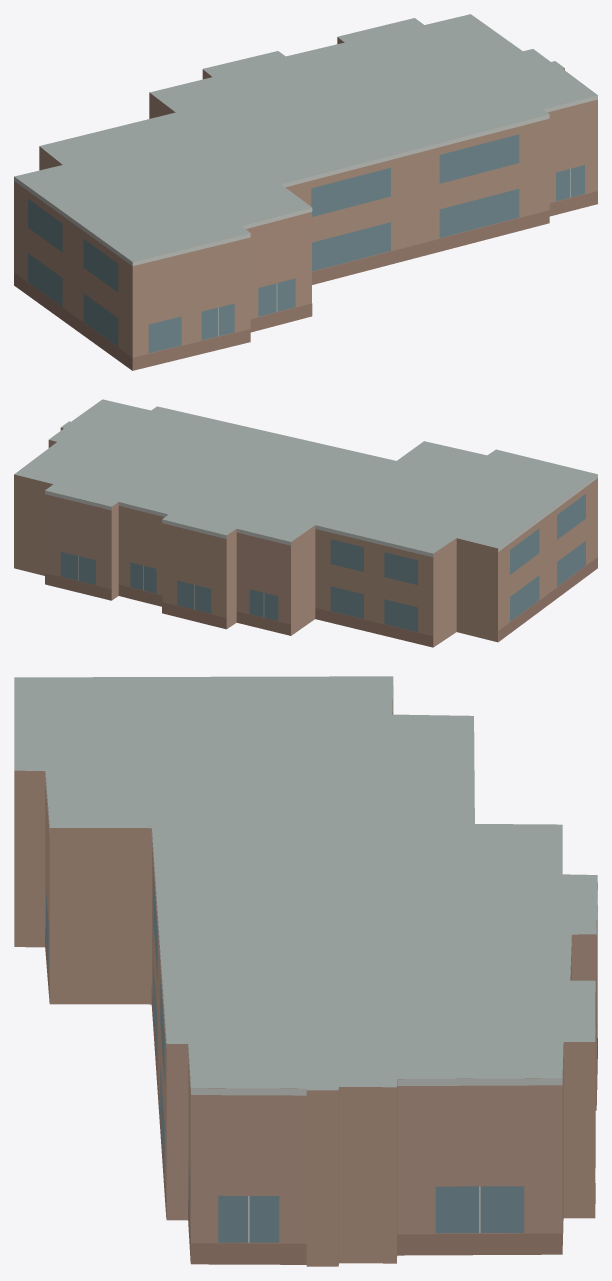
The model's file is survey-upis-32461979.glb.
3 views of the same model, one above another, from view 1: azimuth 30°, elevation 25°; view 2: azimuth 150°, elevation 25°; view 3: azimuth 270°, elevation 25° (orthographic). The views are drawn at different scales.
Visible parts, largest first — view 1: survey-upis-32461979.tmp; view 2: survey-upis-32461979.tmp; view 3: survey-upis-32461979.tmp.
Part boxes in pixels (x1,y1,x2,y2): survey-upis-32461979.tmp: (14, 14, 597, 370); survey-upis-32461979.tmp: (14, 399, 597, 647); survey-upis-32461979.tmp: (14, 676, 597, 1266).
Size of the model in its own units: 30.73 by 6.1 by 18.31.
